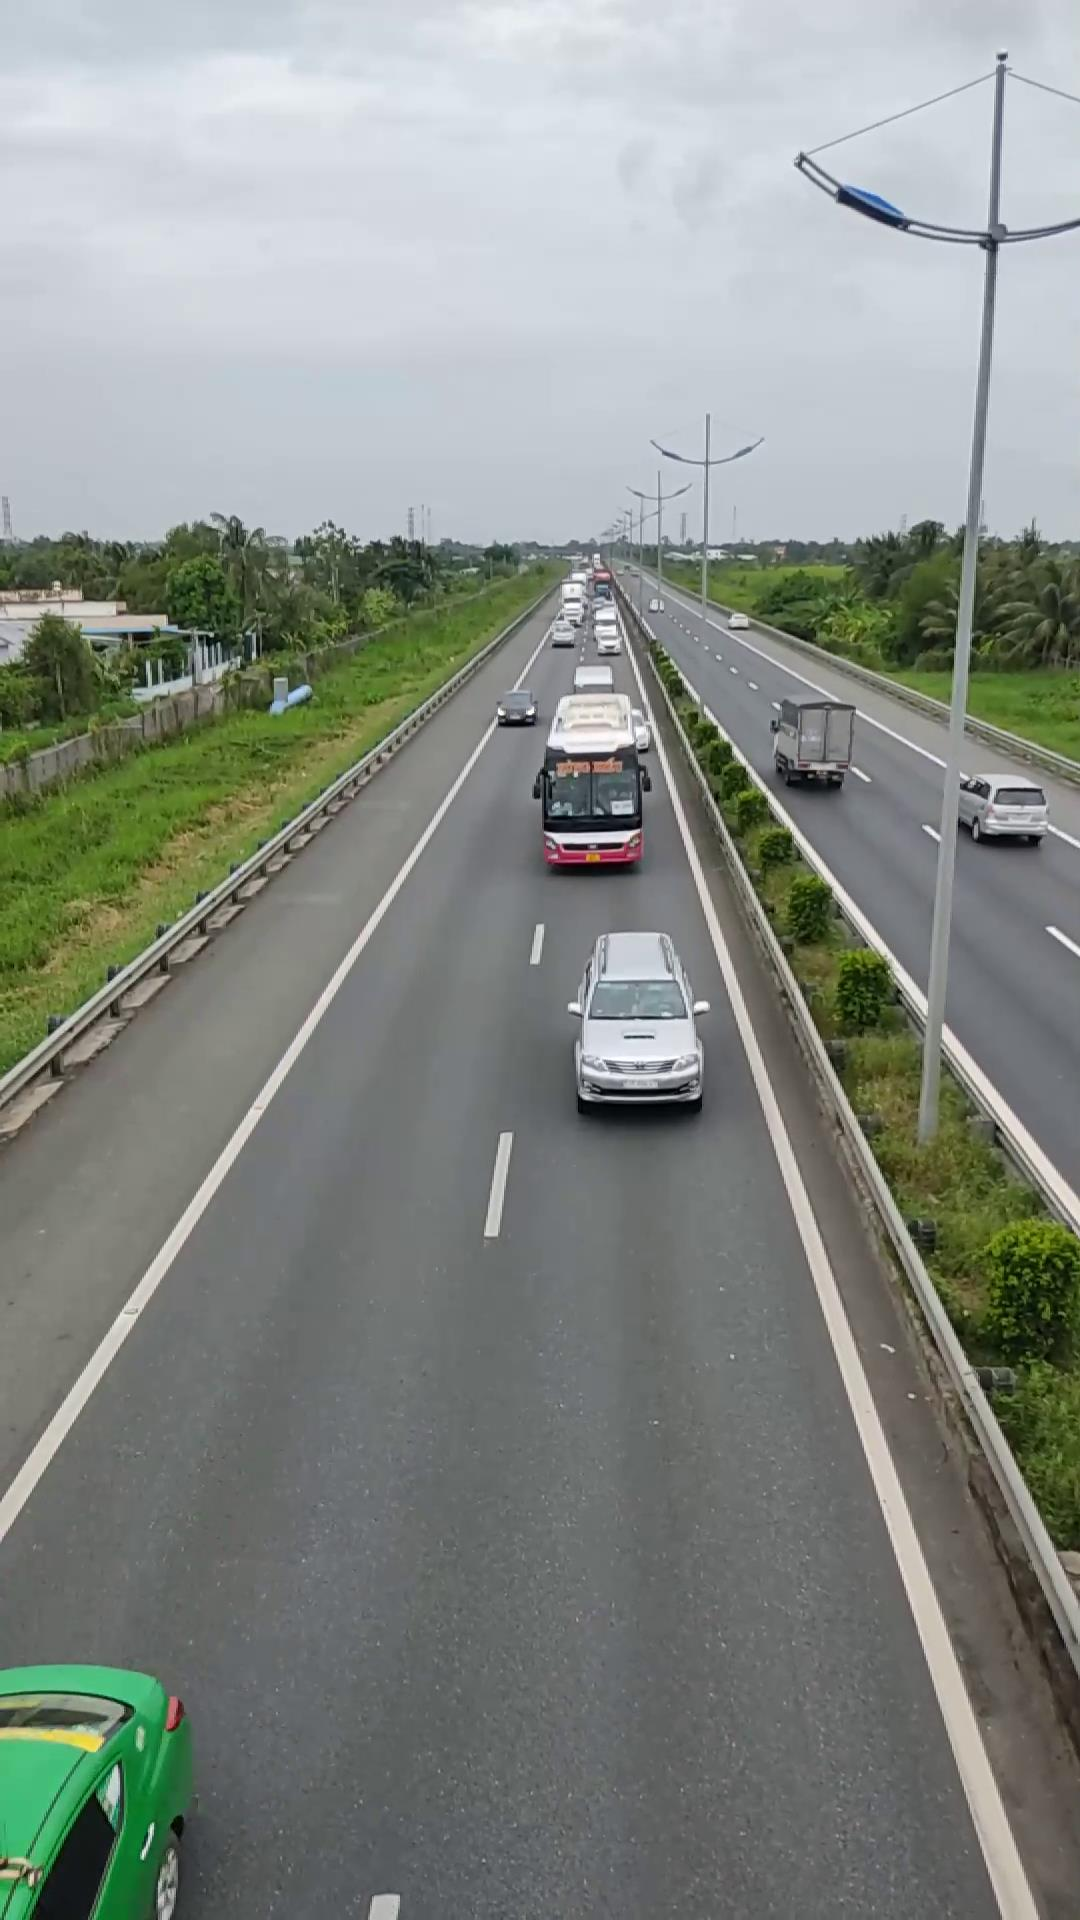bus: (533, 691, 645, 866)
car: (566, 930, 705, 1112), (952, 769, 1047, 844)
truck: (769, 688, 856, 787)
